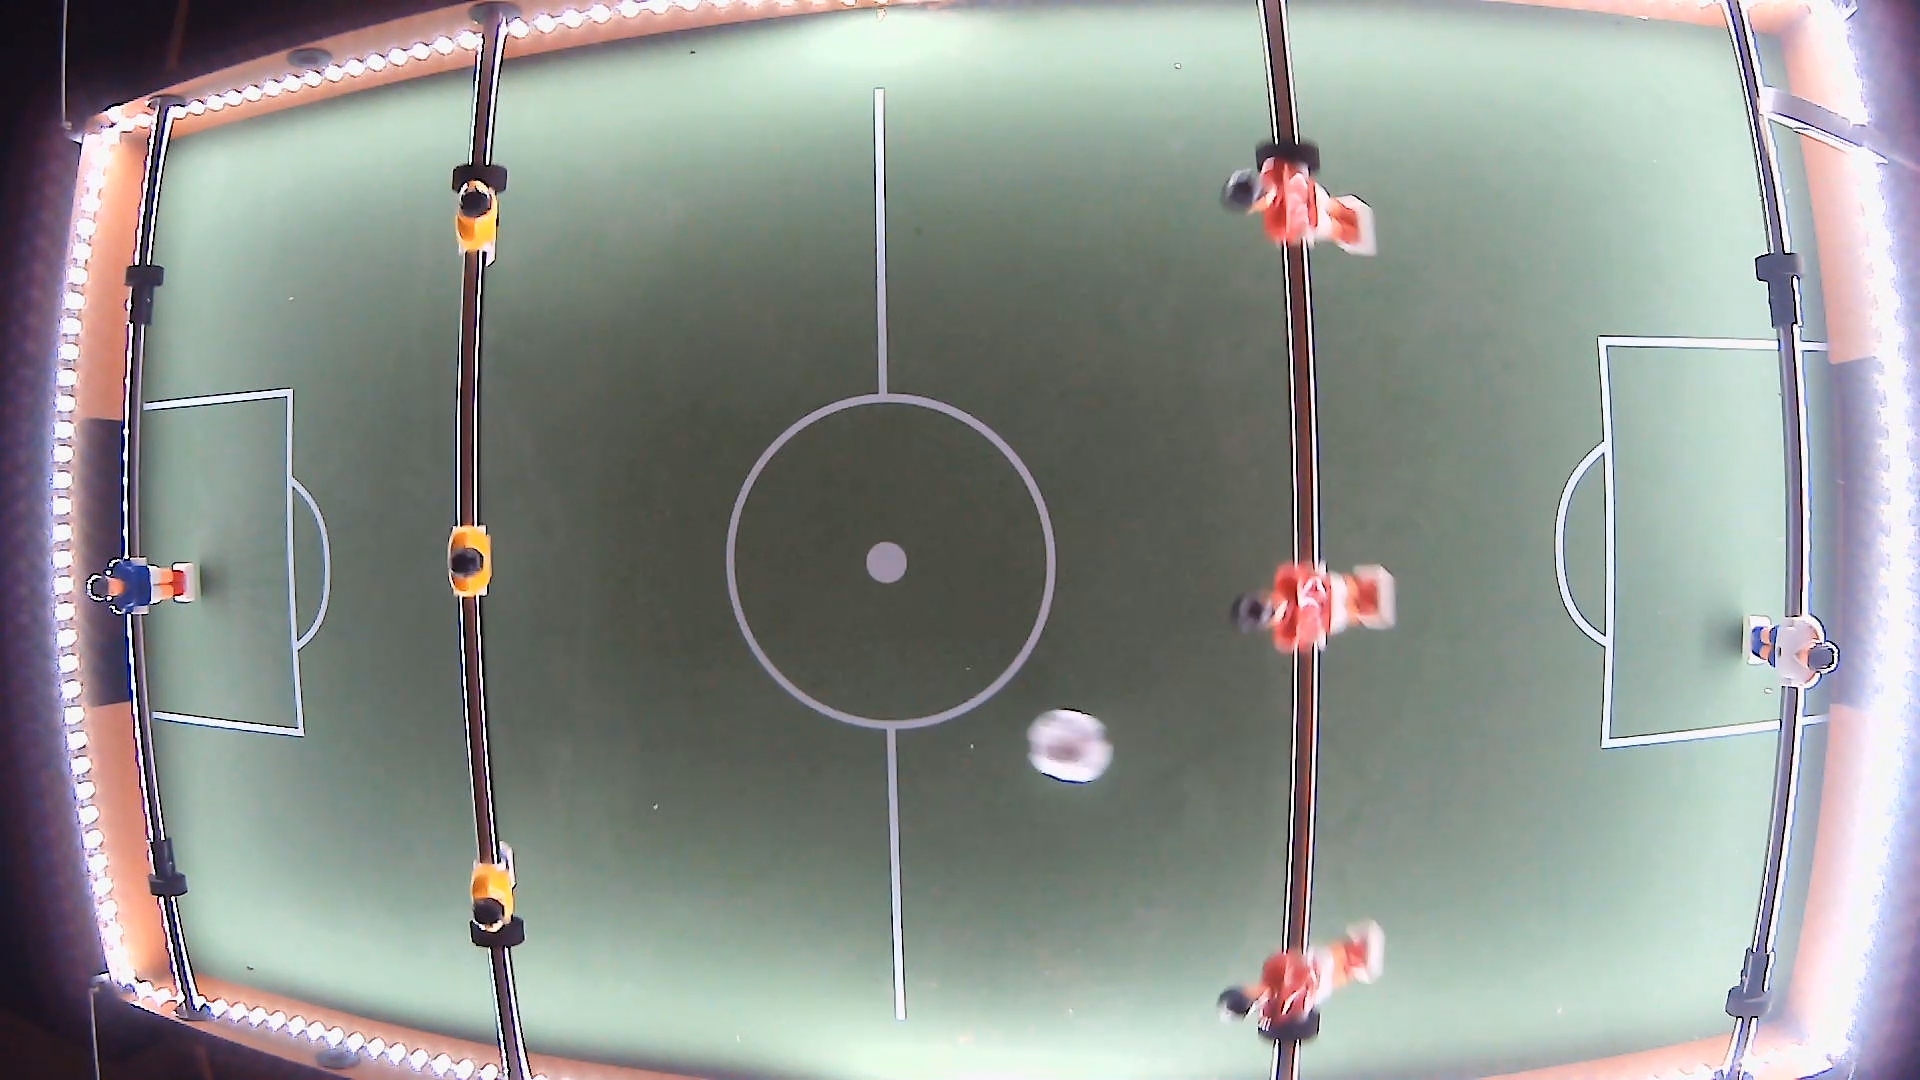Foosball: (1026, 709, 1112, 785)
